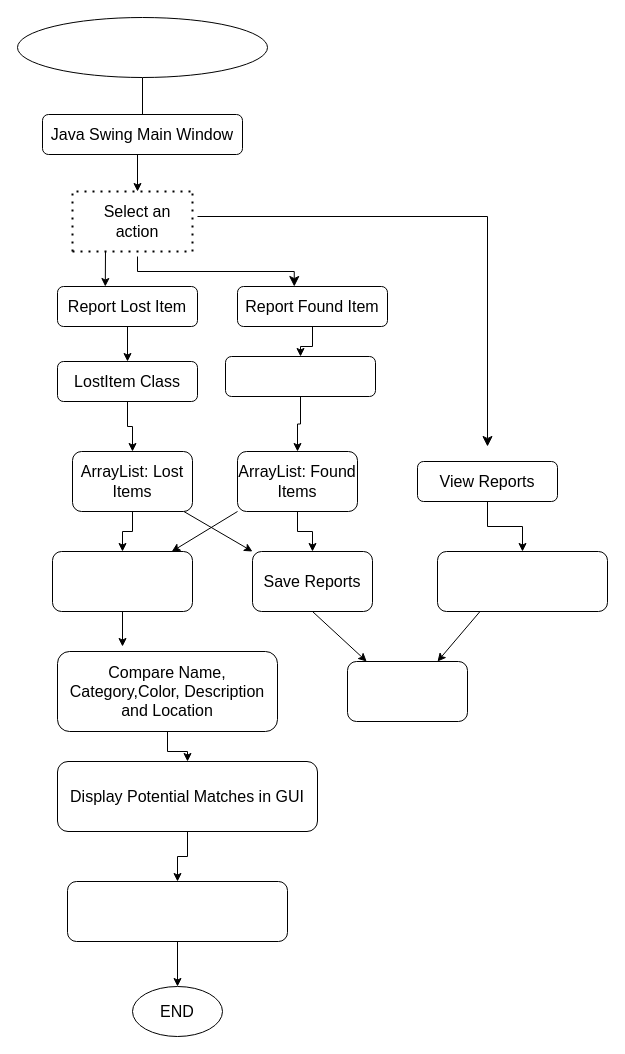
Image size: 625x1054. Some labels were removed from this diagram. The shapes that lost their labels are listed below. From the top down, each one's centre as x and y in pixels, then its label:
At point (142, 47): "Start: Launch TraceBack".
At point (300, 376): "FoundItem Class".
At point (122, 581): "Smart Matching Algorithm".
At point (522, 581): "Load Saved Reports".
At point (407, 691): "CSV File Storage".
At point (177, 911): "User Reviews PotentialMatches".
